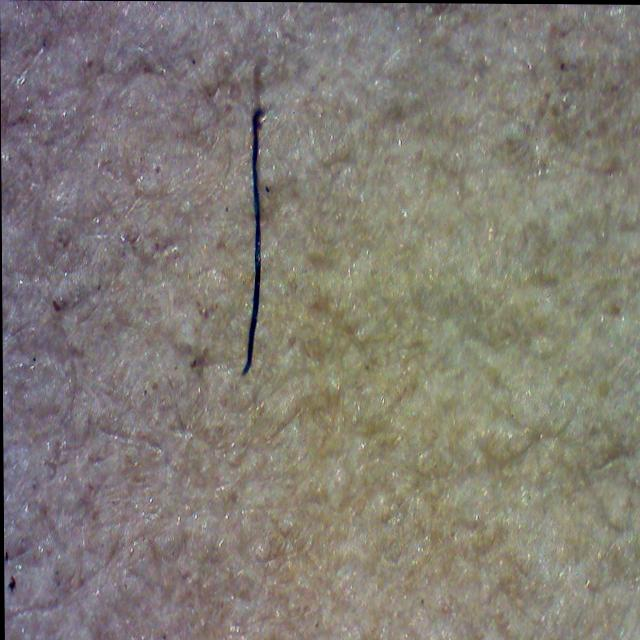microplastic: (238, 106, 268, 377)
